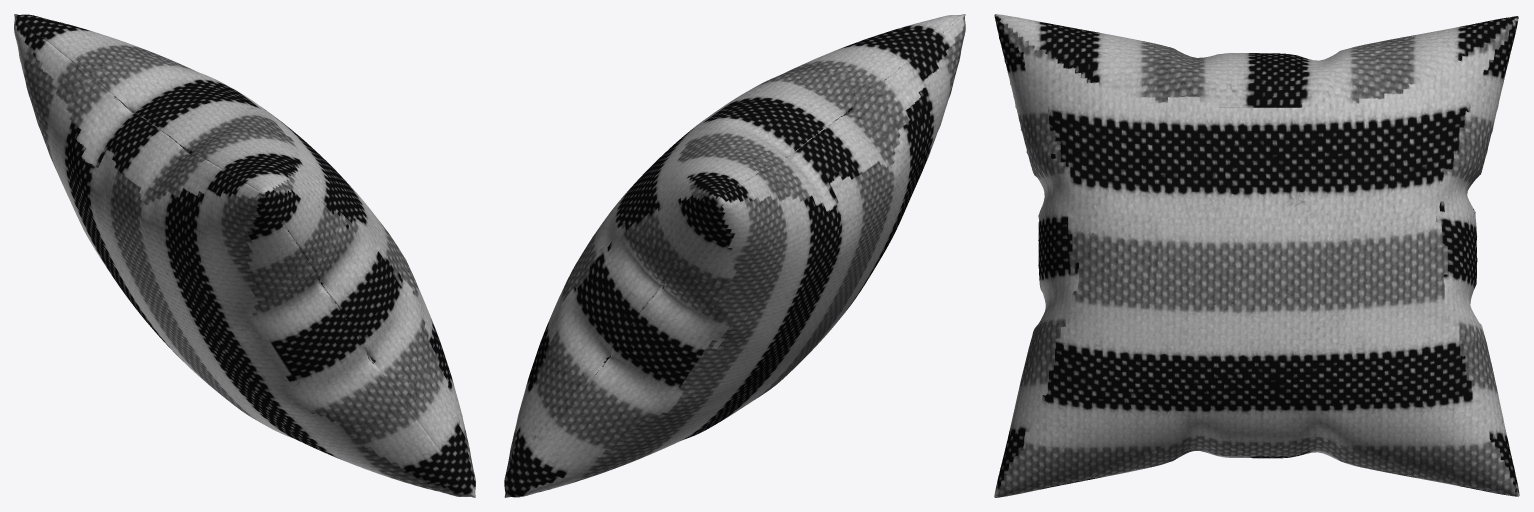
The model's file is Cojin.fbx.
3 views of the same model, side by side, from view 1: azimuth 30°, elevation 25°; view 2: azimuth 150°, elevation 25°; view 3: azimuth 270°, elevation 25° (orthographic). The views are drawn at different scales.
Visible parts, largest first — view 1: Plane.003; view 2: Plane.003; view 3: Plane.003.
Boxes of the visible parts, x1=… form: Plane.003: x1=14, y1=14, x2=475, y2=497; Plane.003: x1=504, y1=14, x2=965, y2=497; Plane.003: x1=994, y1=14, x2=1519, y2=497.
Size of the model in its own units: 77.95 by 99.82 by 126.
1 material, 1 textured.
